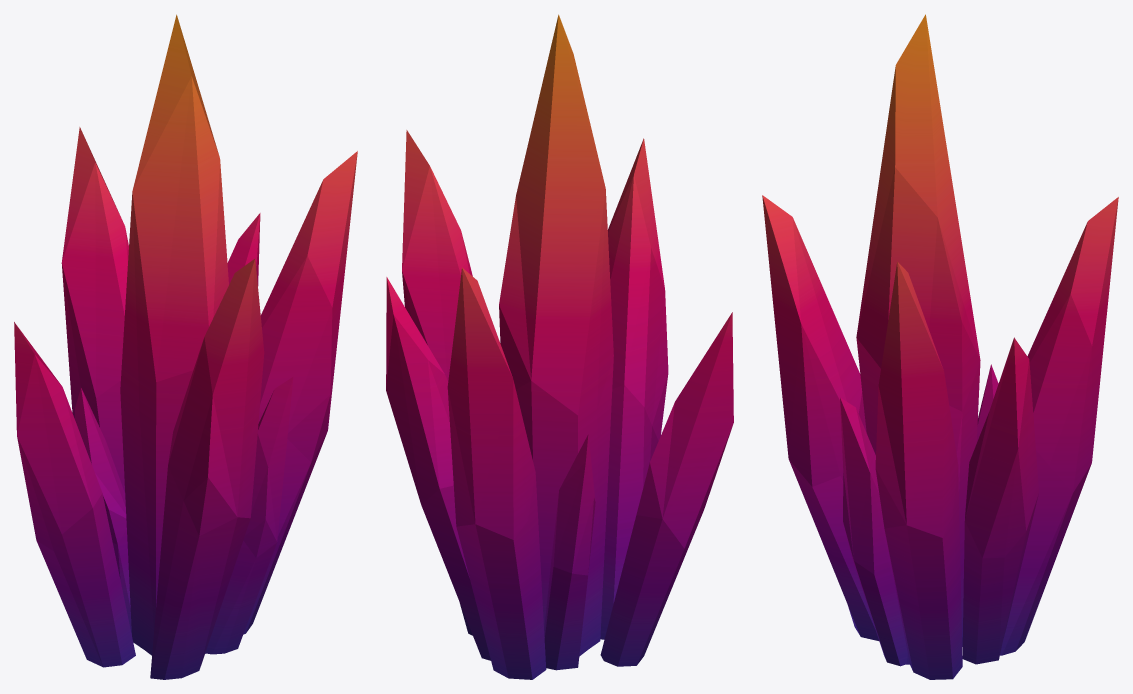
The model's file is cristales13.fbx.
3 renders of one model, left to right at view 1: azimuth 30°, elevation 25°; view 2: azimuth 150°, elevation 25°; view 3: azimuth 270°, elevation 25°, orthographic.
Parts seen in each view (by area): view 1: cristal03; view 2: cristal03; view 3: cristal03.
Part boxes in pixels (x1,y1,x2,y2): cristal03: (14, 14, 357, 679); cristal03: (386, 14, 733, 679); cristal03: (762, 14, 1118, 679).
Bounding box in the file's own units: 641 × 1152 × 592.
1 material, 1 textured.
